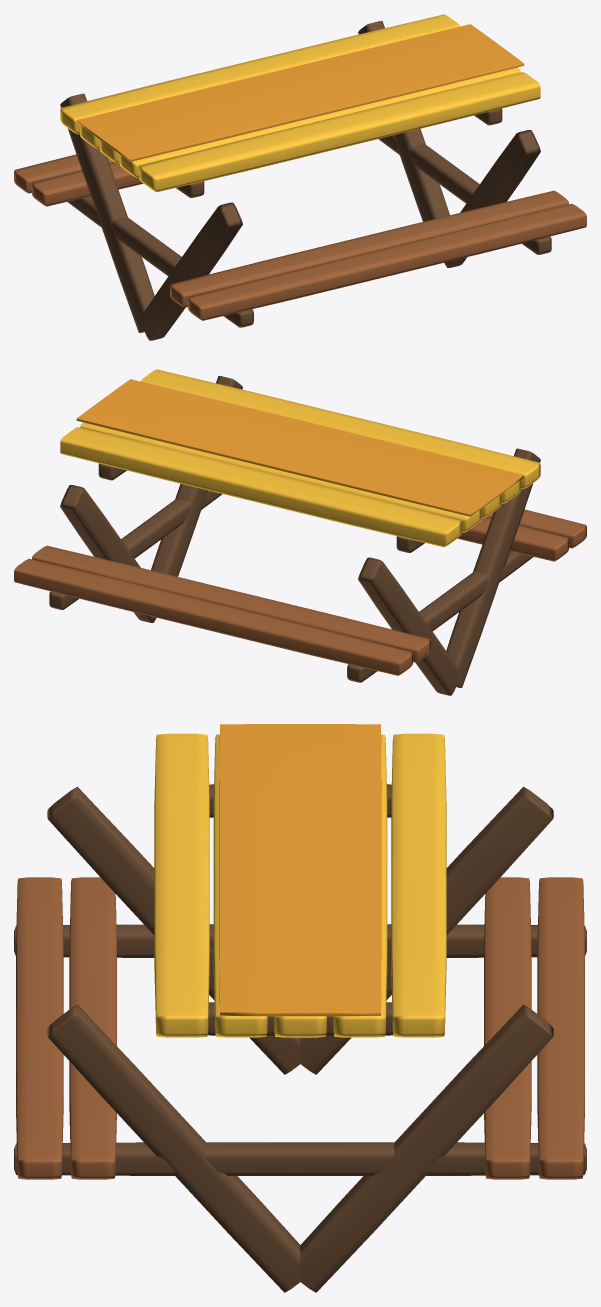
Rendered from HotPotatoTable.obj.
3 renders of one model, top to bottom at view 1: azimuth 30°, elevation 25°; view 2: azimuth 150°, elevation 25°; view 3: azimuth 270°, elevation 25°, orthographic. The views are drawn at different scales.
Parts seen in each view (by area): view 1: Top, Cloth, Benches, Legs; view 2: Top, Cloth, Benches, Legs; view 3: Legs, Benches, Cloth, Top.
Boxes of the visible parts, left/top/right/bottom form: Top: left=60, top=14, right=540, bottom=192; Cloth: left=76, top=24, right=524, bottom=161; Benches: left=14, top=154, right=586, bottom=320; Legs: left=60, top=21, right=551, bottom=340; Top: left=60, top=369, right=540, bottom=547; Cloth: left=76, top=379, right=524, bottom=516; Benches: left=14, top=509, right=586, bottom=675; Legs: left=49, top=376, right=540, bottom=695; Legs: left=14, top=784, right=586, bottom=1292; Benches: left=16, top=877, right=584, bottom=1179; Cloth: left=219, top=724, right=381, bottom=1016; Top: left=154, top=733, right=446, bottom=1037.
Size of the model in its own units: 7.15 by 3.6 by 6.
